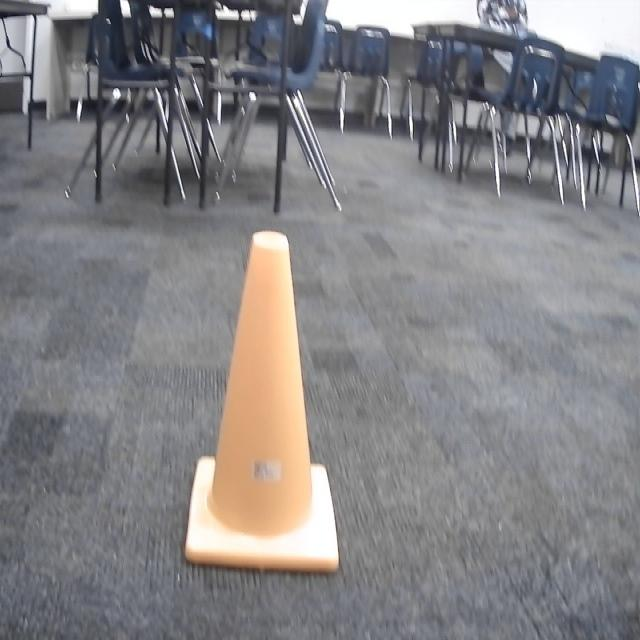cone: (178, 225, 342, 582)
